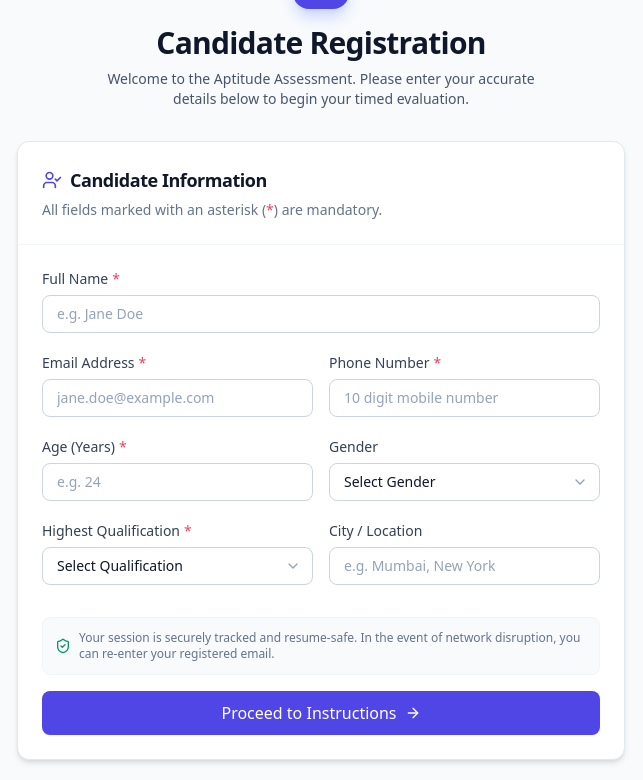
Scenario: Candidate Assessment UI Flow › Registration Page › displays client validation errors when submitting empty form
(page scrolled)
Click the button "Proceed to Instructions".
click(321, 713)  # box [42,691,600,735]
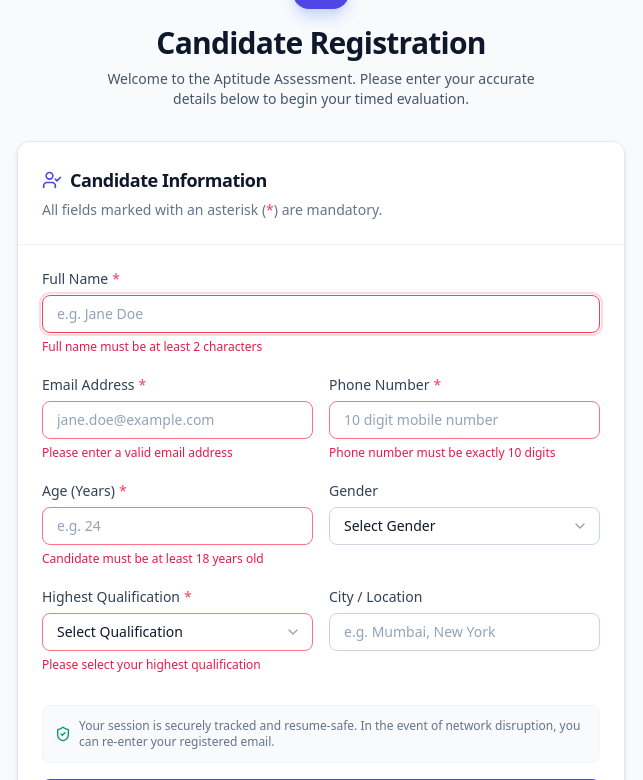
Expected: the text "Full name must be at least 2 characters" is shown, [42,338,262,355]
Expected: the text "Please enter a valid email address" is shown, [42,444,233,461]
